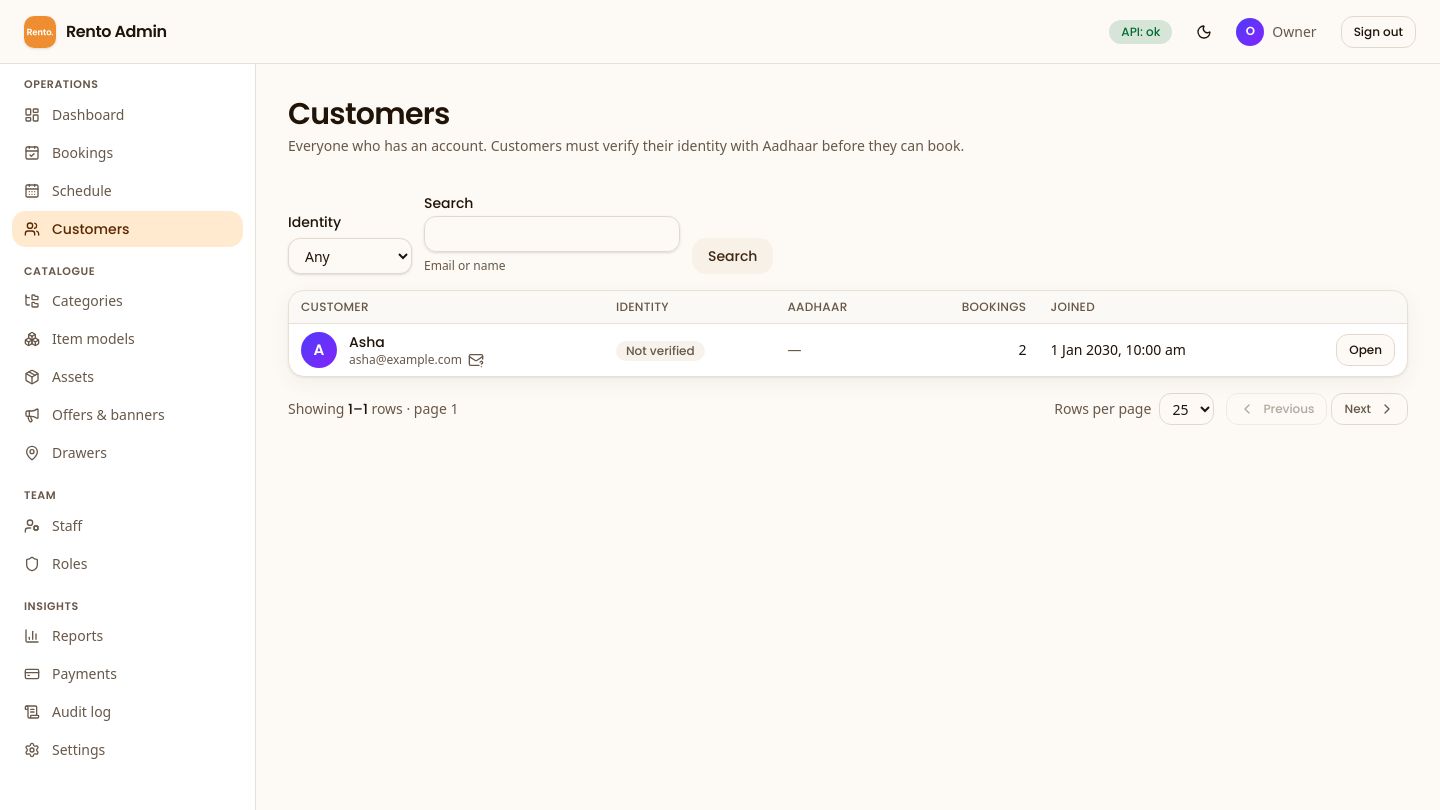
customers › U-03 filters and search go to the server; "Load more" uses the cursor
Expected: the table named "Customers" is shown, [289, 291, 1407, 376]
Select "In progress" in the dropdown labelled "Identity": coordinates (350, 256) [288, 238, 412, 274]
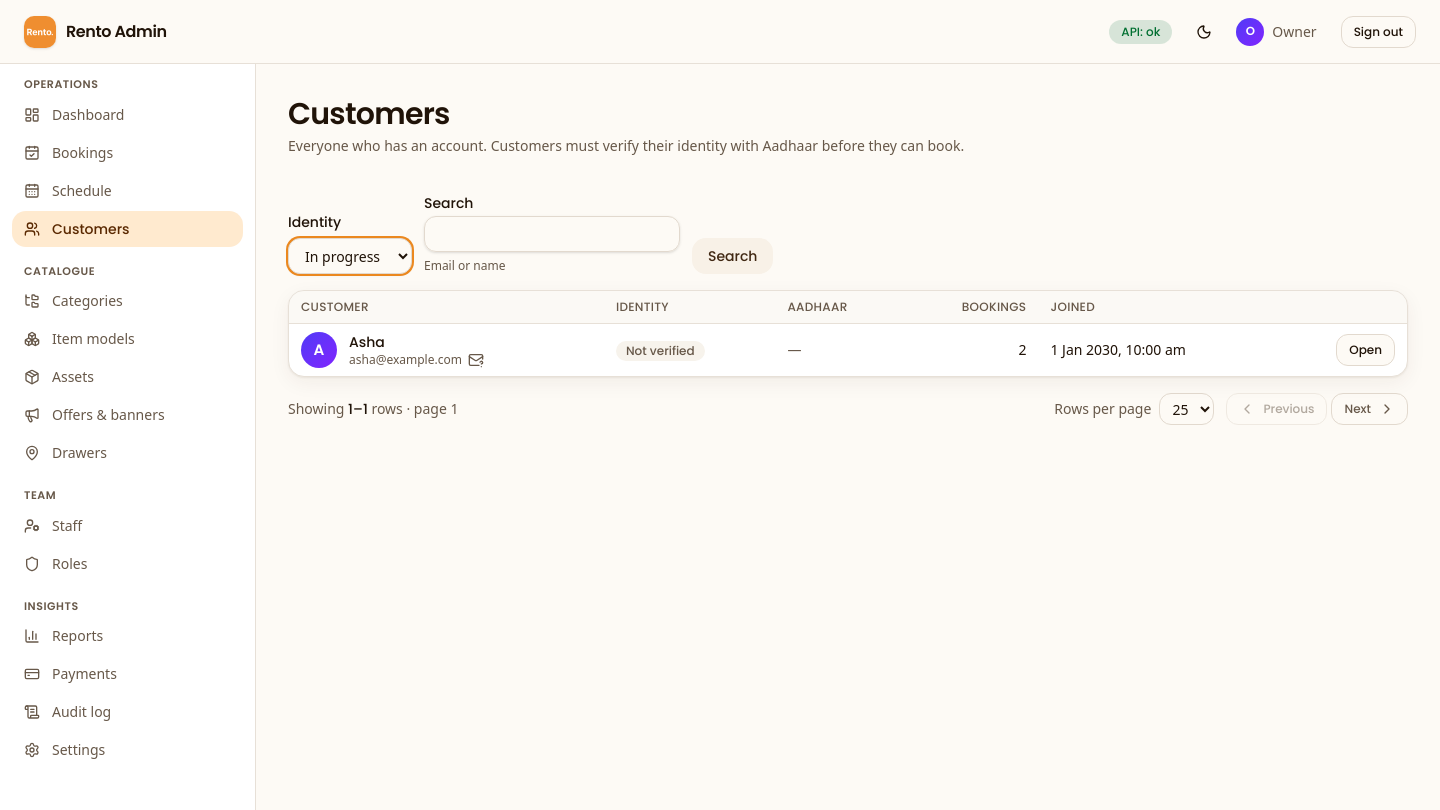
In the field labelled "Search": coordinates (552, 234) [424, 216, 680, 252], type "asha"
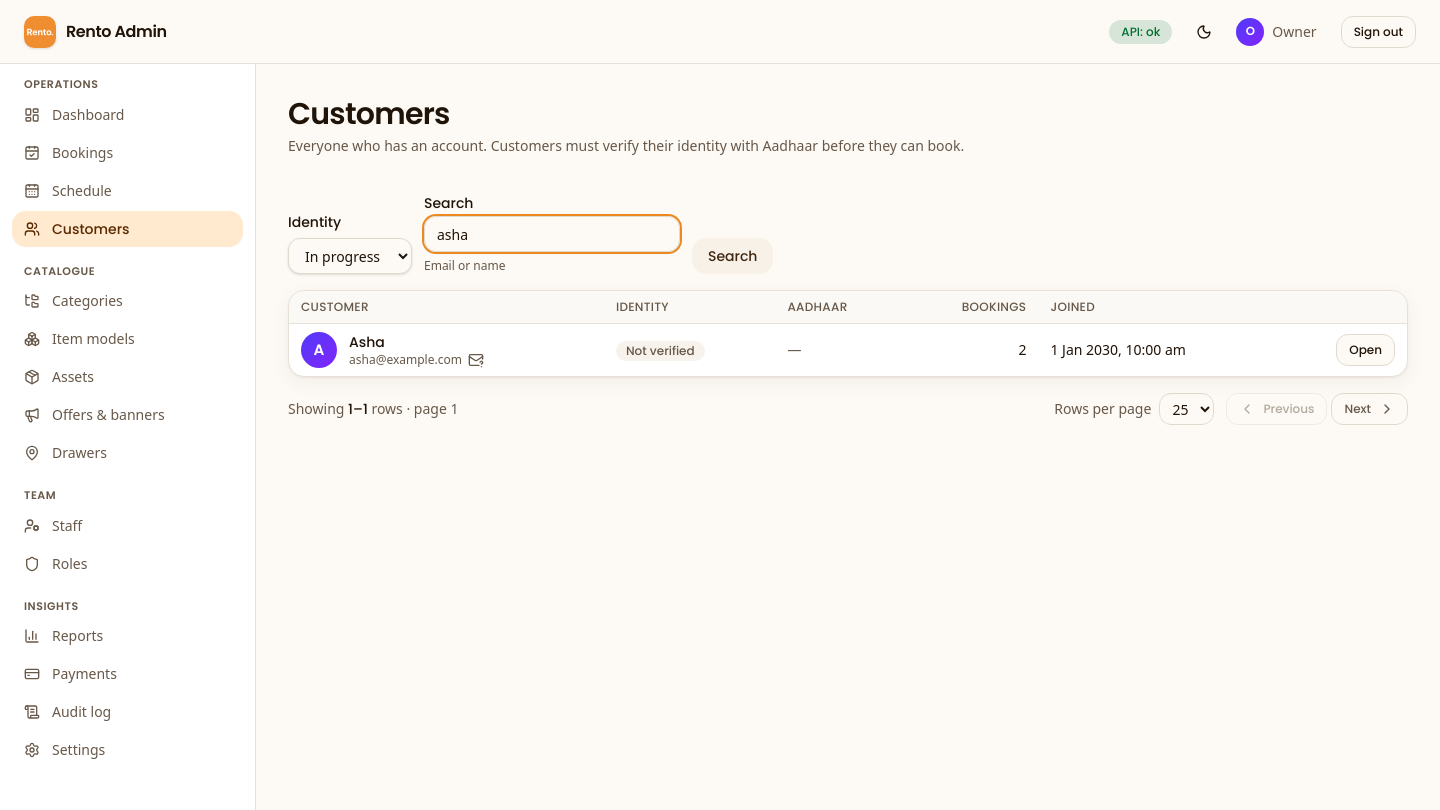
Click the button "Search": coordinates (733, 256) [692, 238, 774, 274]
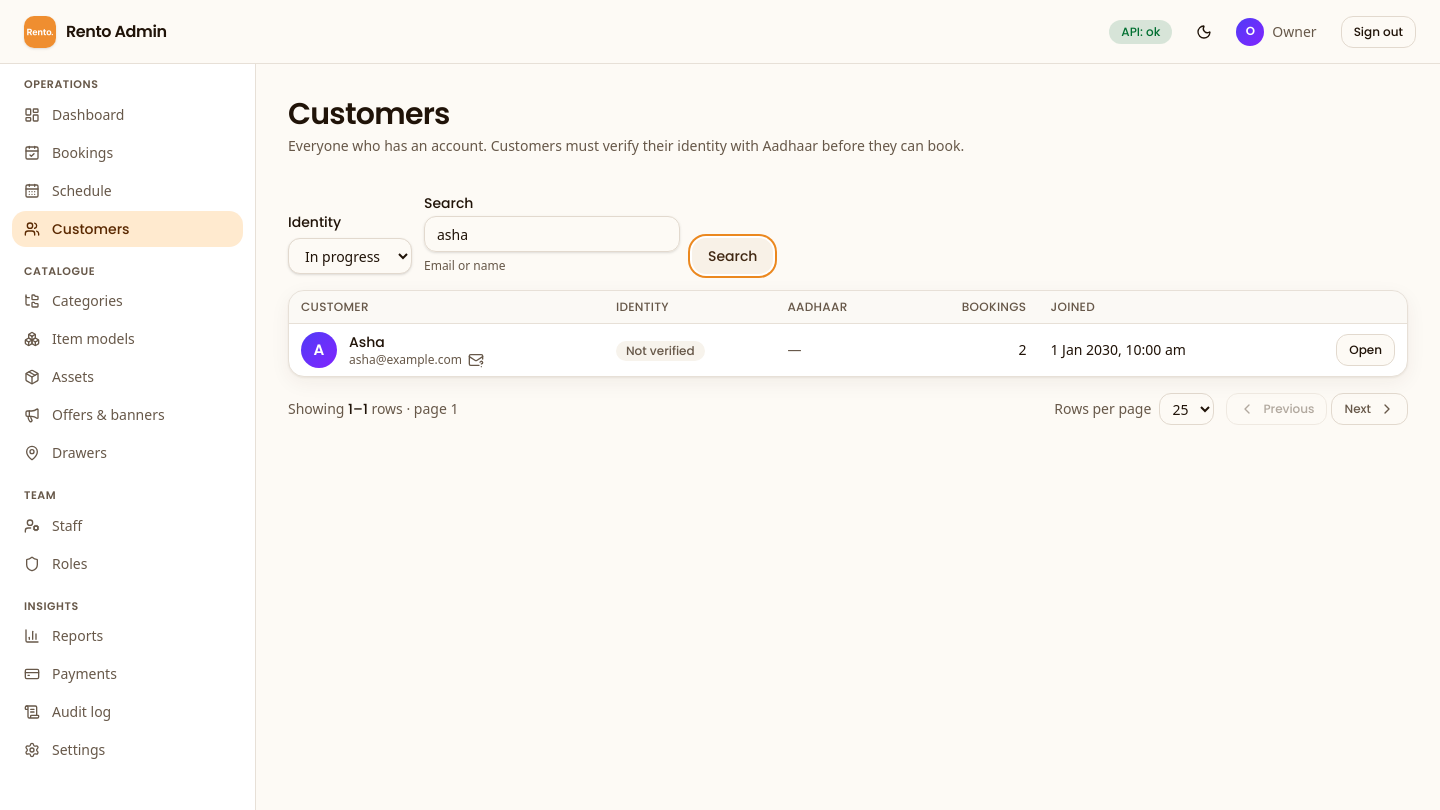
Expected: the table named "Customers" is shown, [289, 291, 1407, 376]
Click the button with aria-label "Next page": coordinates (1370, 409) [1332, 393, 1408, 425]
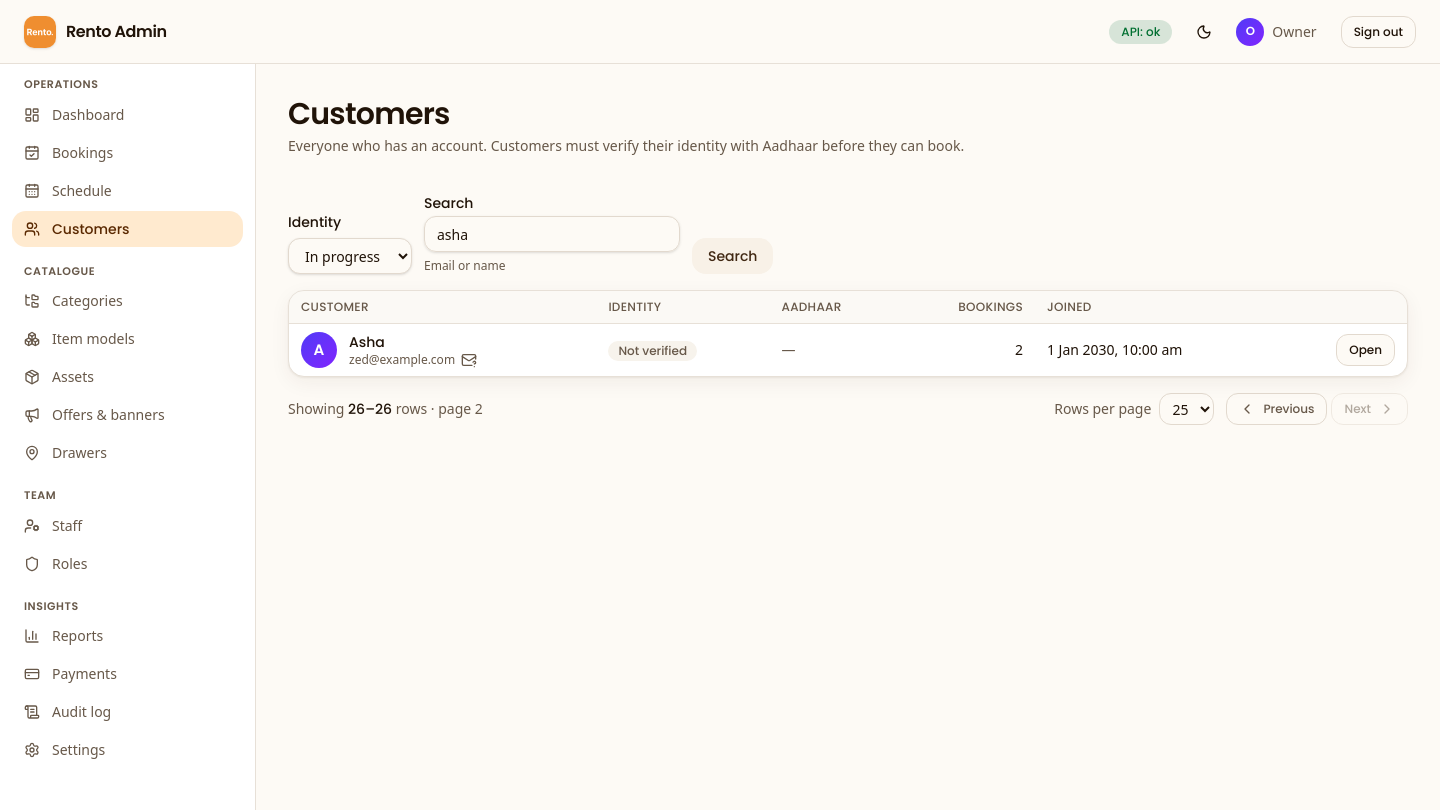
Expected: the text "zed@example.com" is shown, [349, 352, 477, 368]
